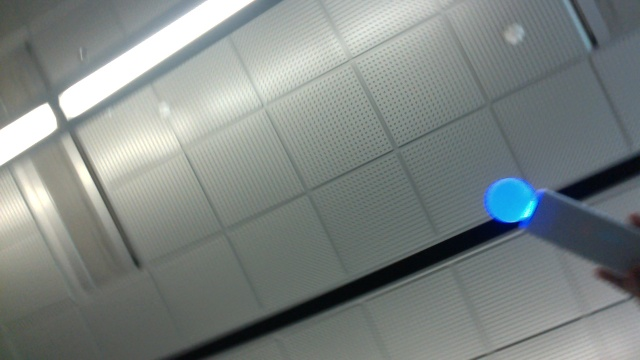wand: (486, 179, 537, 221)
